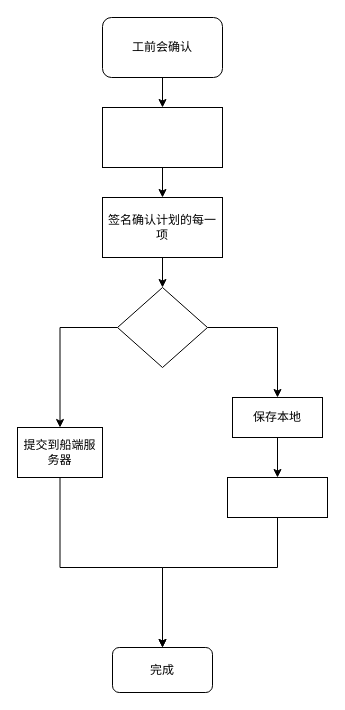
The diagram is 345 pixels wide and 710 high, and some of its shapes have lost their labels. Here are the shapes that lost their labels. From the top down, the centre of each, then its label:
At [162,137]: "同步用户所在船的待工前会确认计划到本地".
At [162,327]: "是否连接到 船端服务器".
At [277,497]: "可连接到船端时同步到船端服务器".
